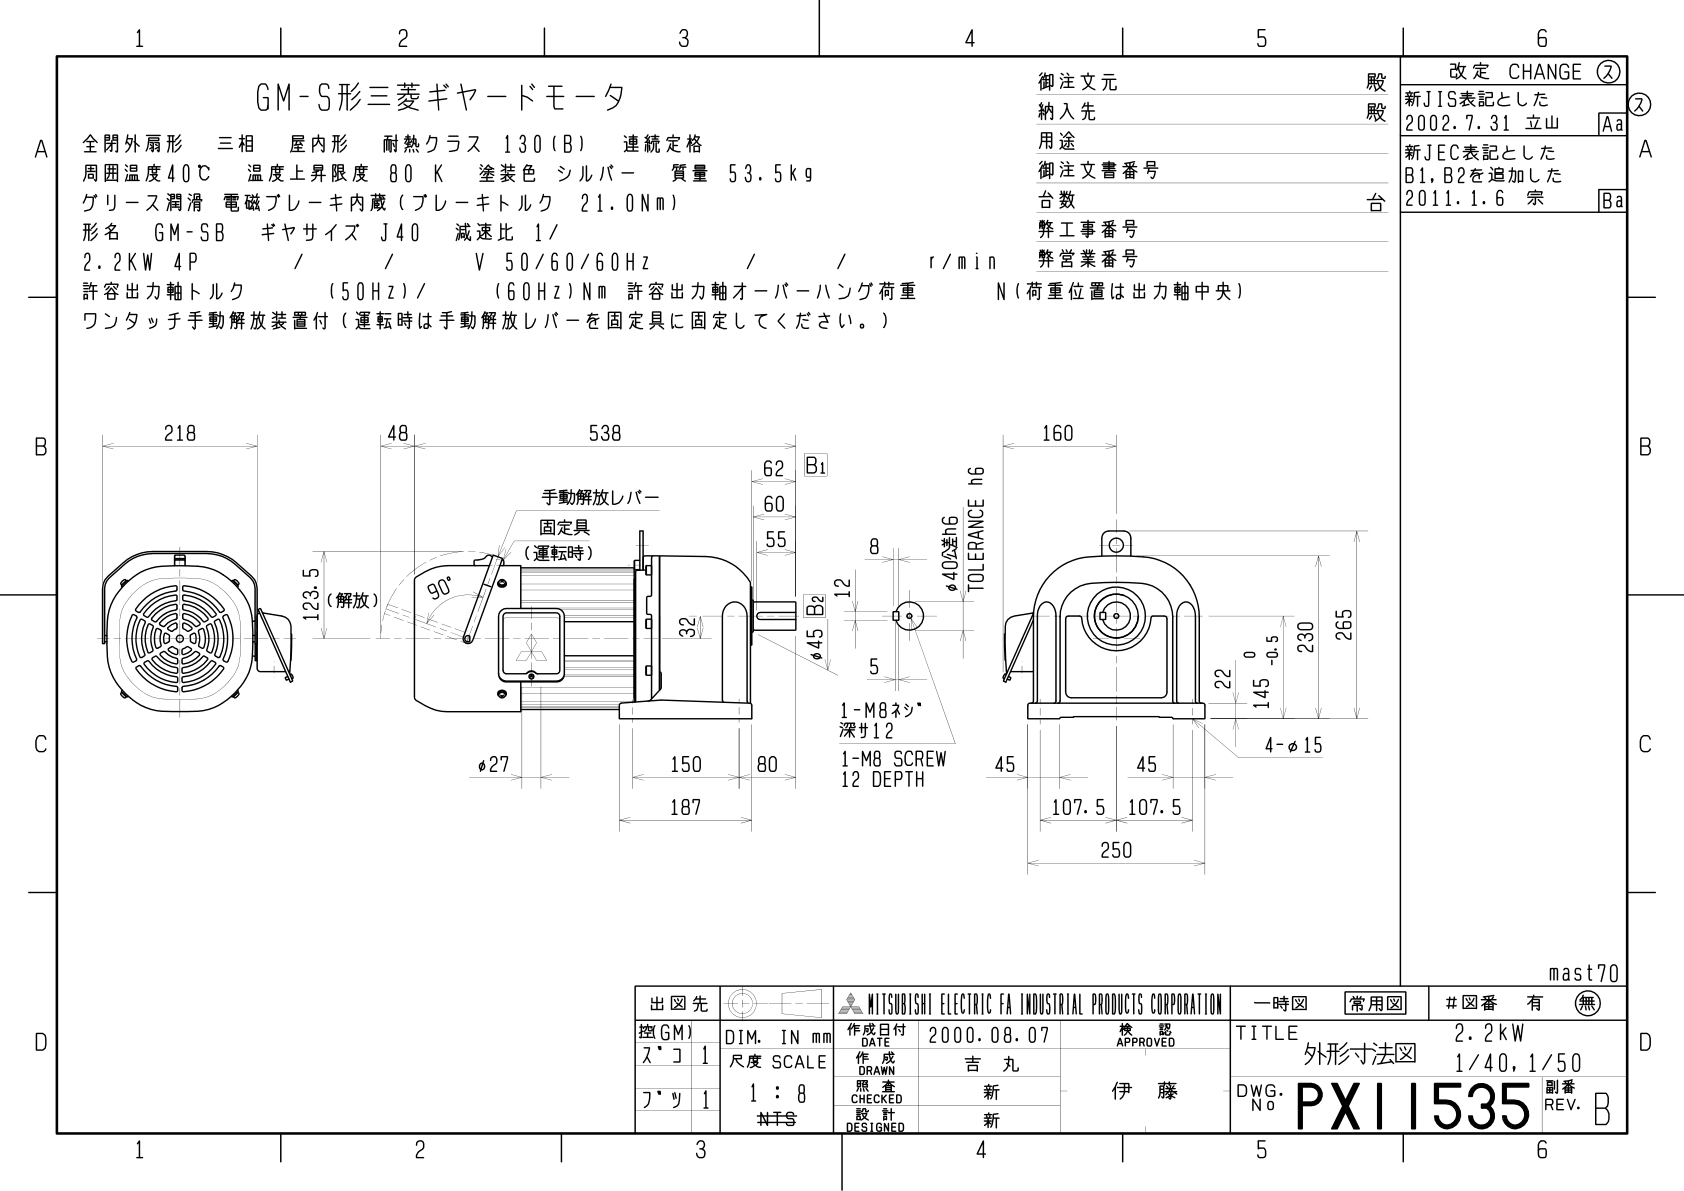GM_S_手動ブレーキ＿三相_脚: (77, 375, 1375, 938)
